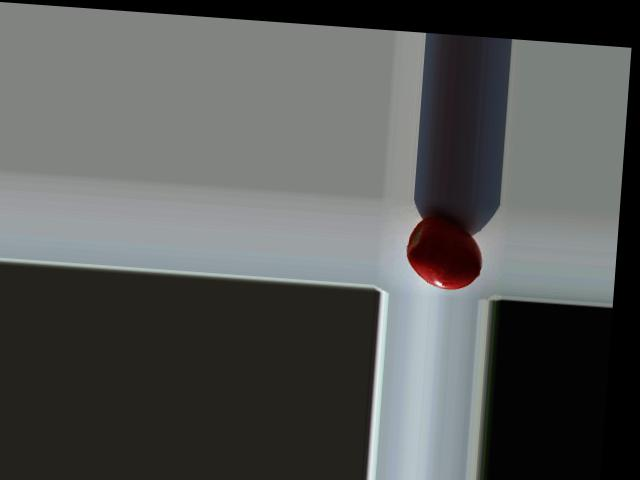tomato: (404, 214, 485, 291)
